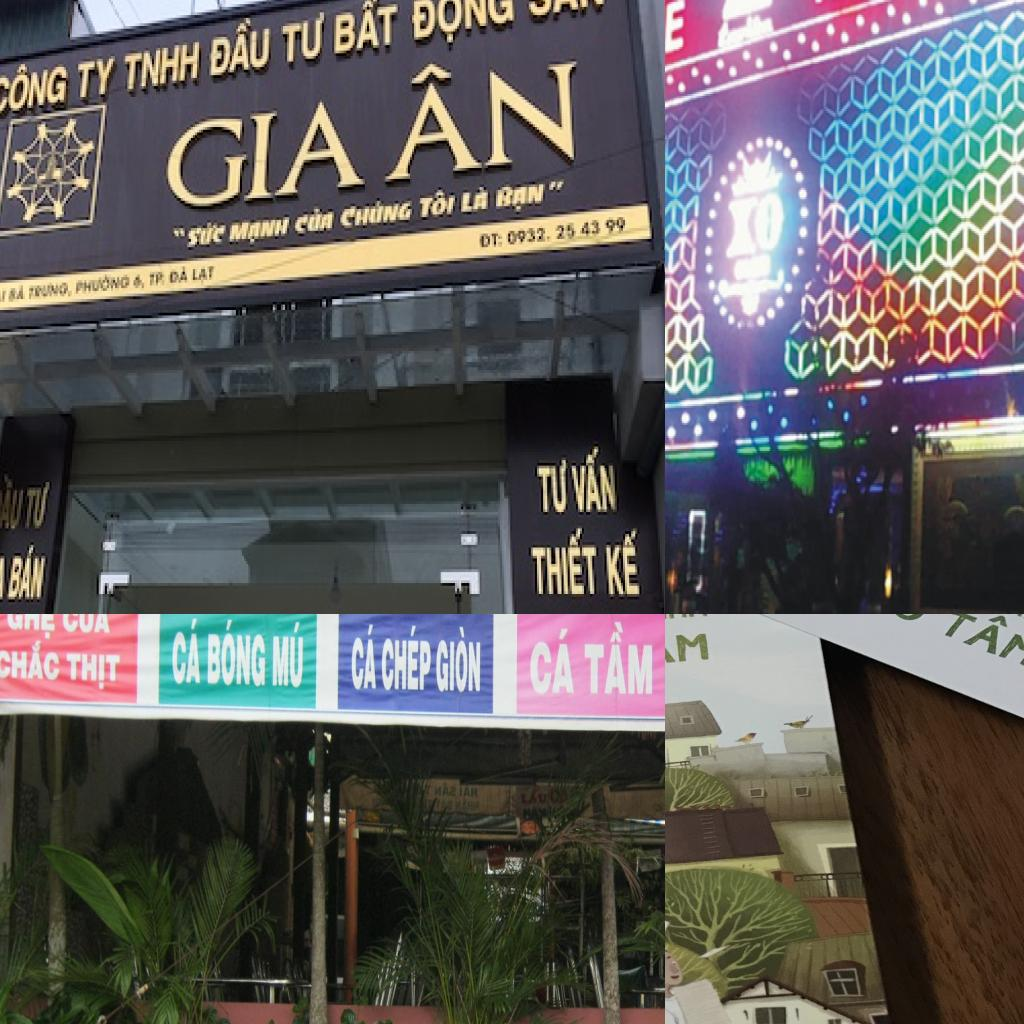text: (379, 48, 582, 187), (164, 92, 369, 212), (522, 523, 600, 605), (580, 618, 656, 700), (407, 0, 516, 53), (204, 615, 270, 691), (937, 614, 1024, 671), (123, 37, 205, 97), (506, 212, 629, 250), (209, 15, 275, 81), (0, 59, 72, 119), (723, 190, 783, 261), (332, 0, 401, 61), (380, 621, 434, 697), (526, 622, 577, 698), (572, 444, 621, 520), (277, 7, 330, 75), (434, 624, 483, 697), (338, 198, 416, 236), (602, 529, 642, 602), (496, 176, 566, 217), (0, 637, 62, 683), (6, 542, 52, 602), (64, 649, 123, 694), (665, 619, 717, 668), (531, 458, 572, 518), (271, 618, 305, 690), (230, 212, 293, 250), (172, 616, 204, 687), (168, 217, 230, 253), (518, 0, 614, 23), (0, 473, 31, 542), (76, 56, 121, 102), (350, 621, 378, 693), (23, 479, 56, 537), (292, 204, 338, 242), (76, 272, 134, 299), (4, 614, 59, 641), (418, 187, 459, 223), (25, 277, 76, 305), (964, 614, 1024, 636), (61, 614, 113, 638), (459, 182, 494, 217), (859, 614, 945, 627), (191, 261, 217, 288), (518, 786, 548, 808), (478, 228, 504, 253), (170, 264, 191, 288), (150, 266, 170, 291), (0, 553, 8, 607), (131, 269, 148, 294), (11, 286, 27, 308), (0, 288, 10, 310)
